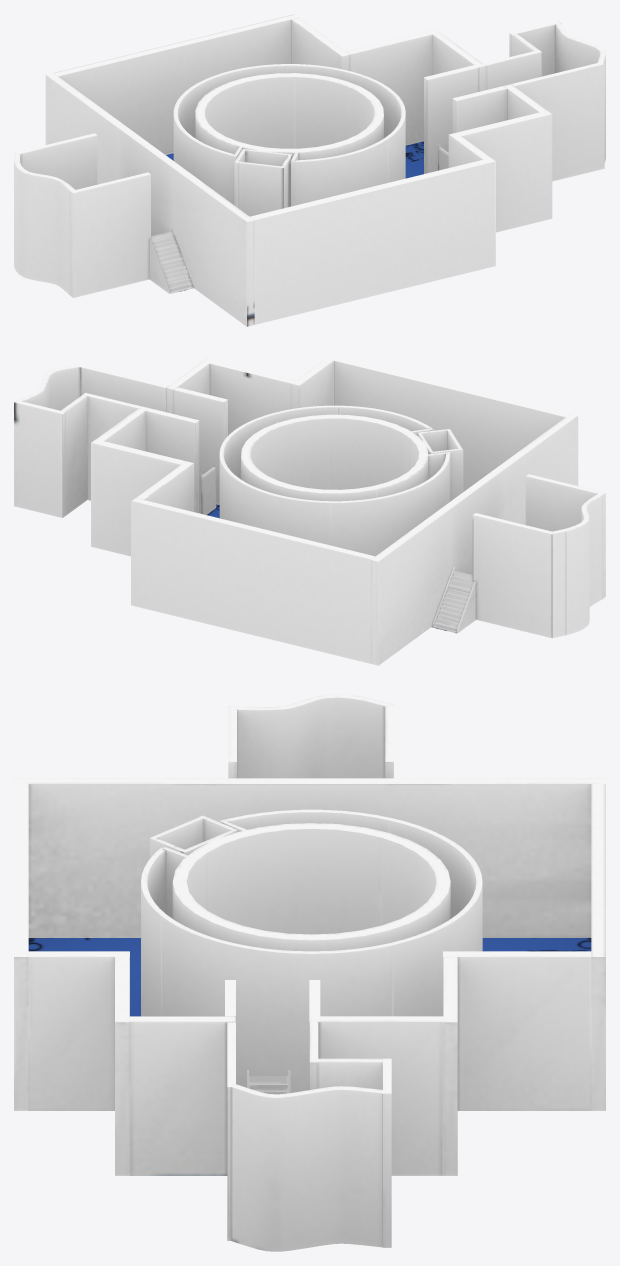
File: jingWeiYiPingTai.fbx
3 renders of one model, top to bottom at view 1: azimuth 30°, elevation 25°; view 2: azimuth 150°, elevation 25°; view 3: azimuth 270°, elevation 25°, orthographic. The views are drawn at different scales.
Parts seen in each view (by area): view 1: polySurface10; view 2: polySurface10; view 3: polySurface10.
Part boxes in pixels (box(x1,y1,x2,y2)): polySurface10: box(14, 14, 605, 326); polySurface10: box(14, 355, 605, 665); polySurface10: box(14, 694, 605, 1251).
Bounding box in the file's own units: 2021 × 1253 × 359.
